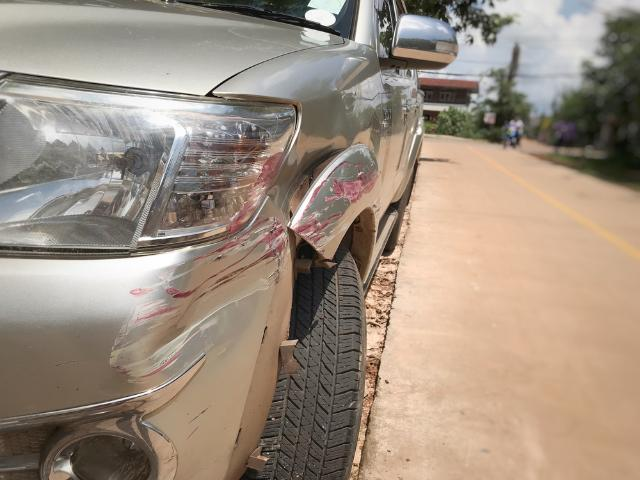dent: (149, 237, 280, 378), (268, 147, 341, 220)
dislocated part: (226, 243, 330, 480)
scratch: (287, 148, 379, 254), (107, 265, 186, 386), (239, 214, 291, 266)
